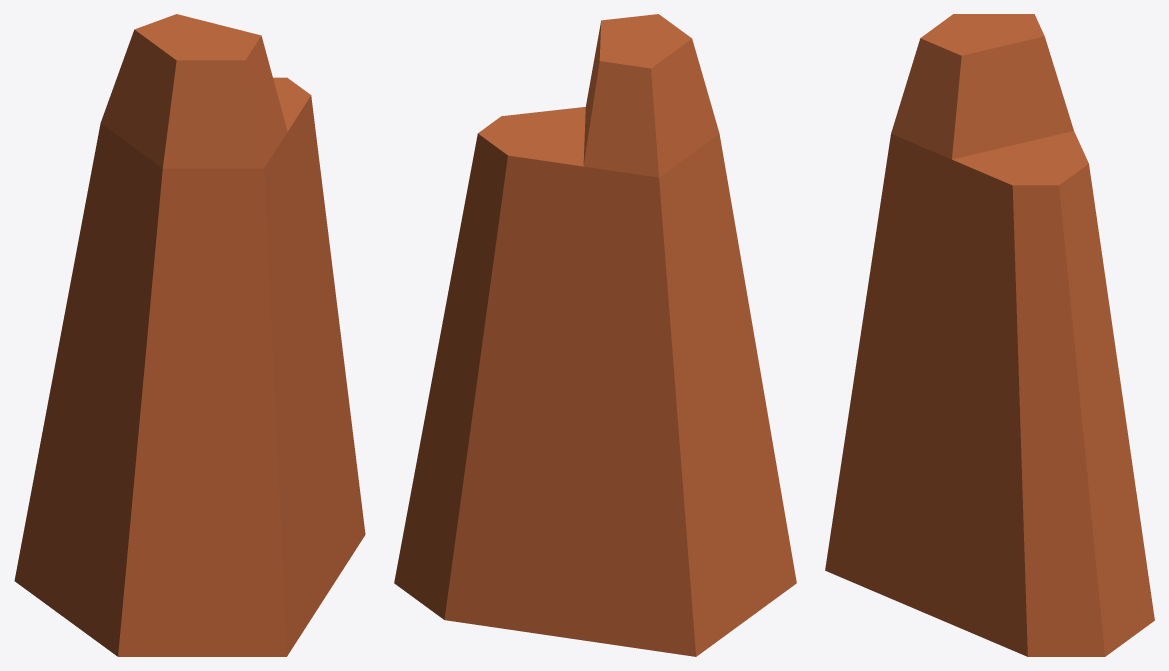
Rendered from mesa_7.fbx.
The picture shows the model from 3 angles, left to right: view 1: azimuth 30°, elevation 25°; view 2: azimuth 150°, elevation 25°; view 3: azimuth 270°, elevation 25°; orthographic projection. The views are drawn at different scales.
Parts seen in each view (by area): view 1: mesa_7; view 2: mesa_7; view 3: mesa_7.
Part boxes in pixels (<box>): mesa_7: <box>14,14,365,656</box>; mesa_7: <box>394,14,796,656</box>; mesa_7: <box>825,14,1154,656</box>.
Bounding box in the file's own units: 0.4562 × 0.7829 × 0.4365.
1 material, 1 textured.
